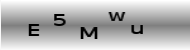5: (51, 12, 66, 28)
E: (27, 22, 41, 37)
M: (79, 26, 98, 40)
u: (130, 23, 144, 35)
w: (107, 11, 125, 22)
